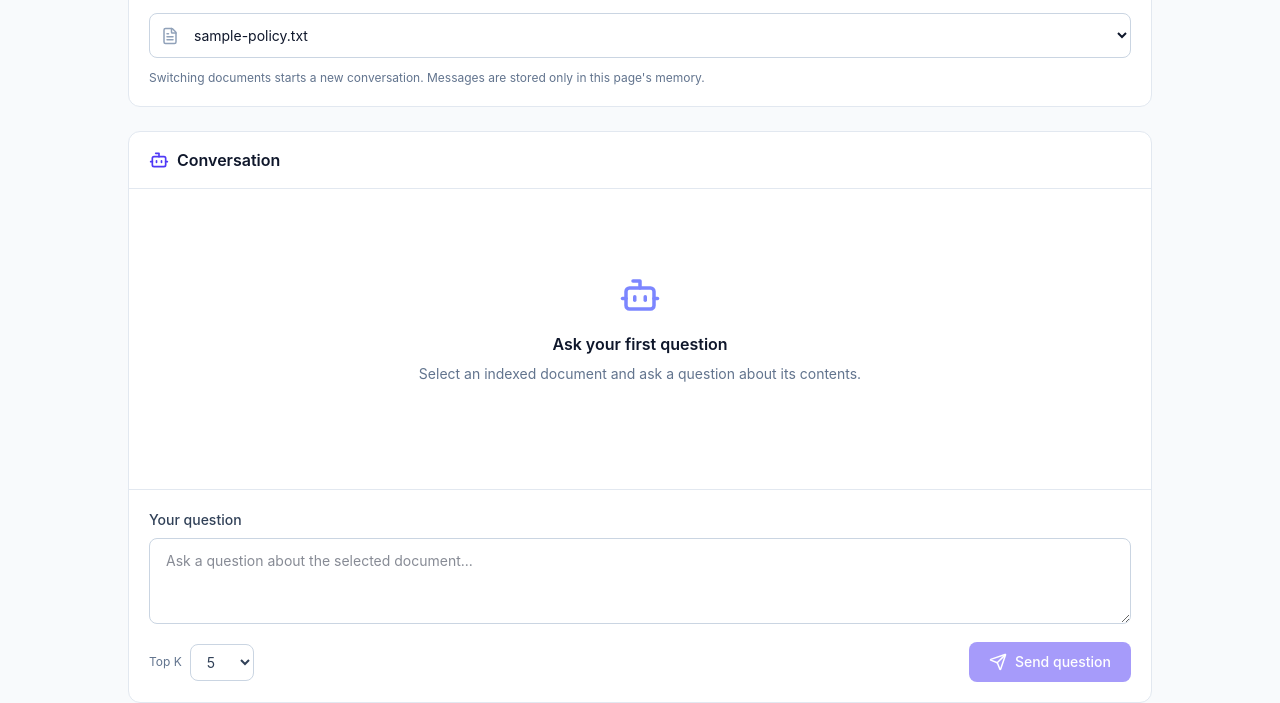
ChatPage › sends the selected document and renders the answer with its source
(page scrolled)
Type "How long does it take to process approved refunds?" into the text box labelled "Your question" at (640, 581), box top-left (149, 538), bottom-right (1131, 624)
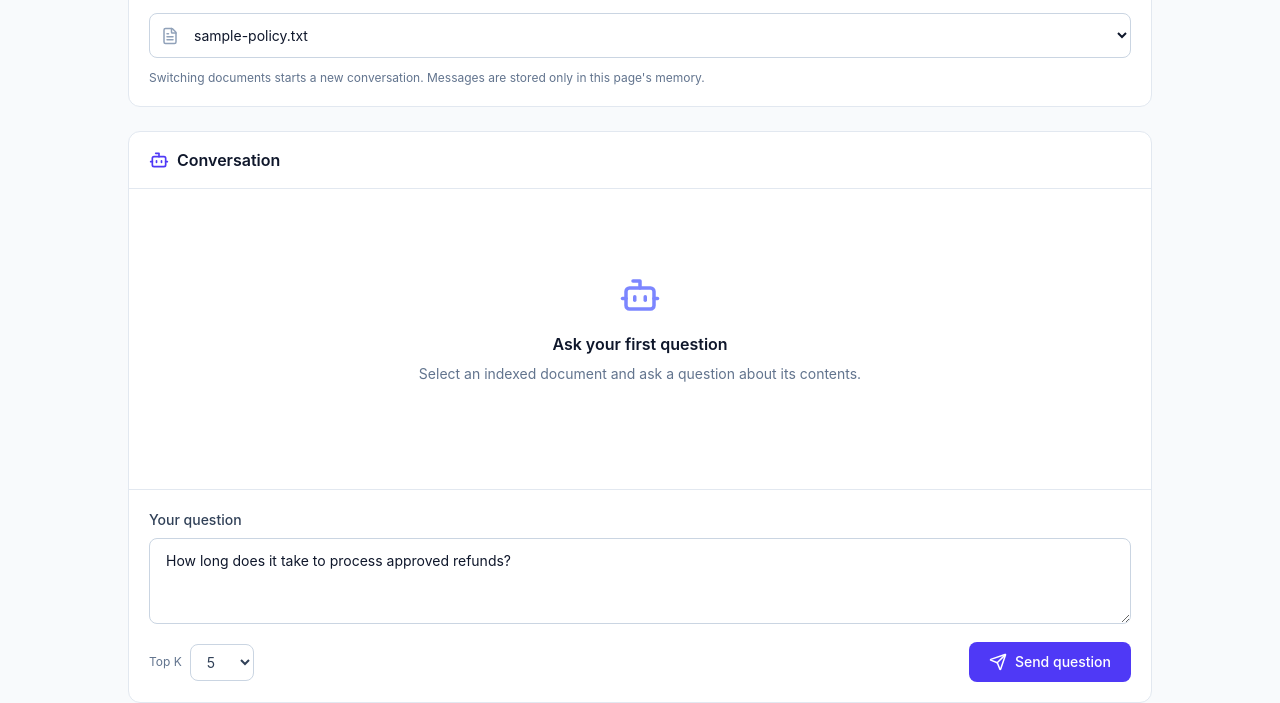
Click the button "Send question" at (1050, 662), box top-left (969, 642), bottom-right (1131, 682)
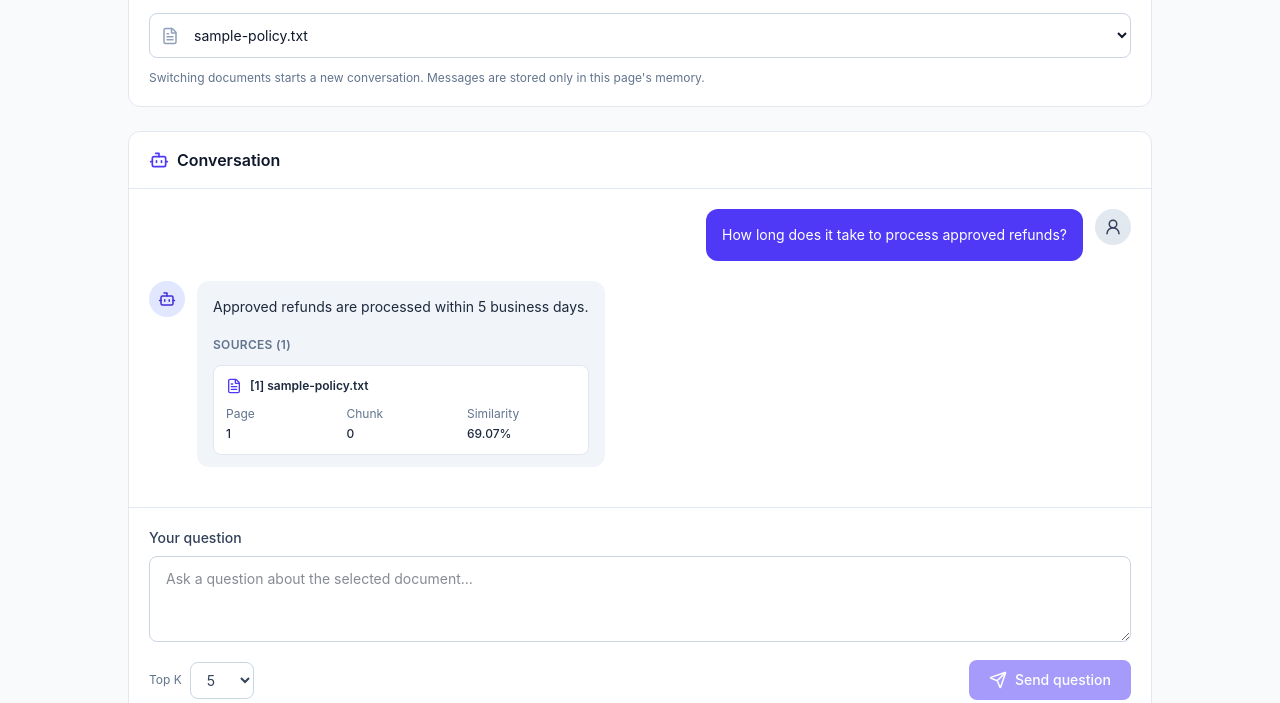
Expected: the text "Approved refunds are processed within 5 business days." is shown, top-left (213, 293), bottom-right (588, 321)
Expected: the text "[1] sample-policy.txt" is shown, top-left (250, 378), bottom-right (369, 394)
Expected: the text "69.07%" is shown, top-left (467, 426), bottom-right (511, 441)
